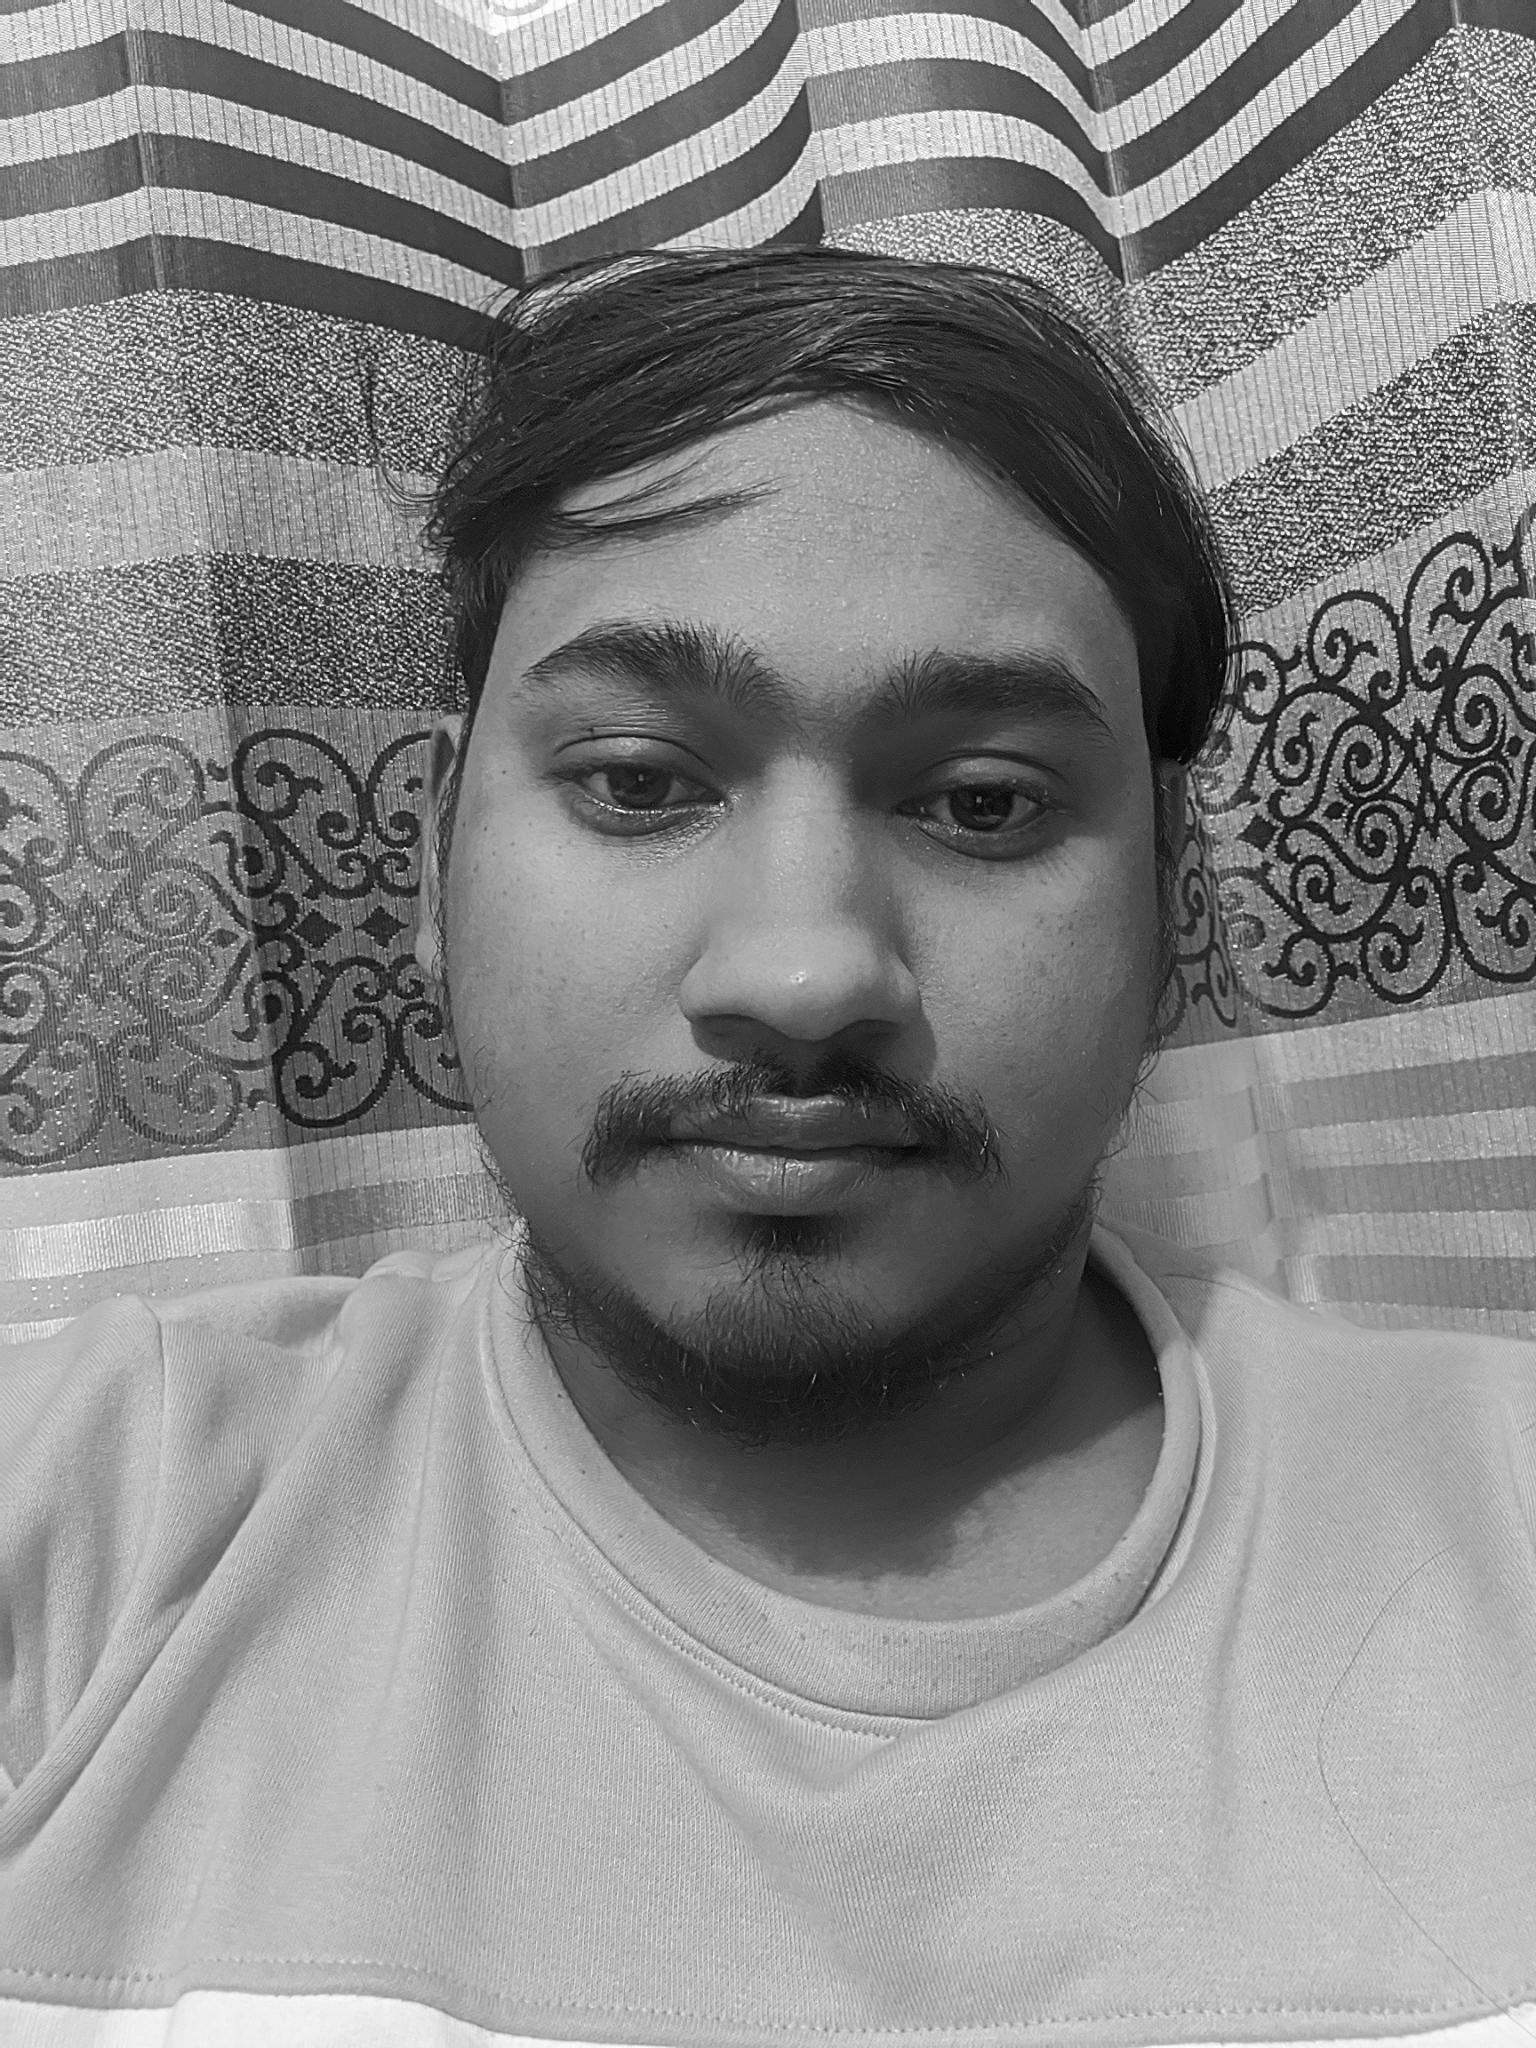Neutral: (458, 548, 1165, 1364)
